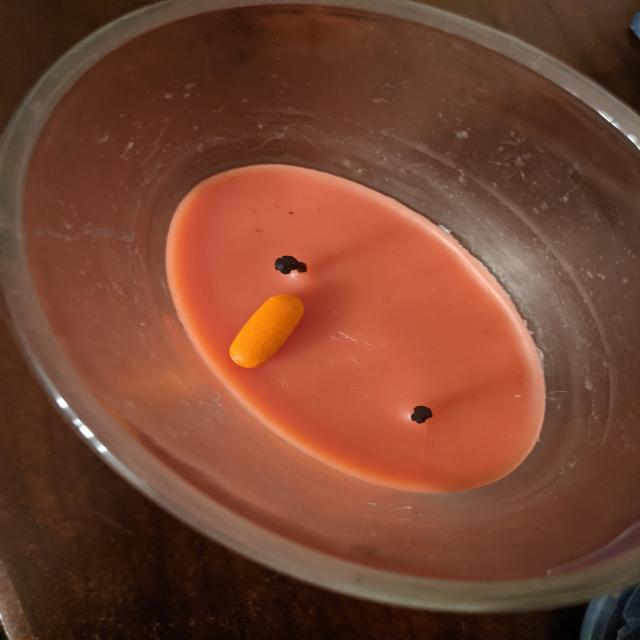non-organic waste: (227, 292, 305, 369)
